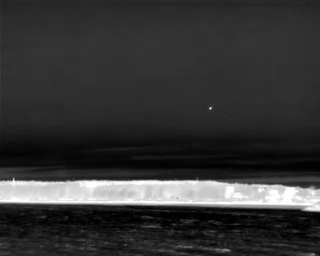HELICOPTER: (206, 104, 215, 113)
